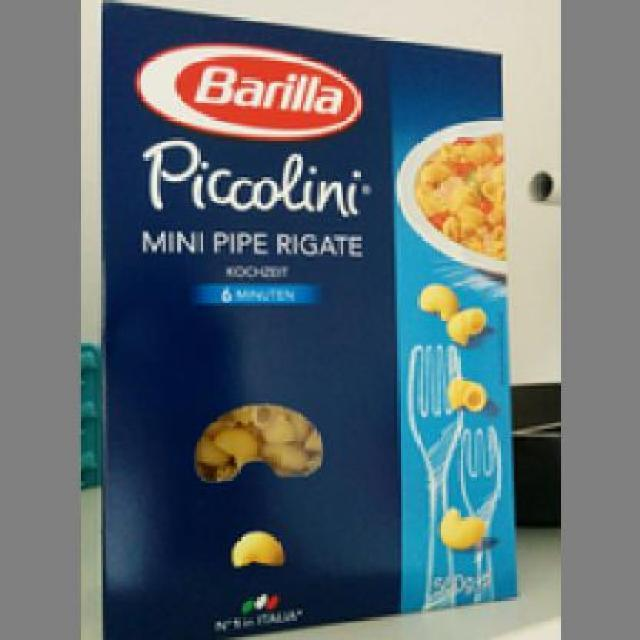Pasta: (96, 0, 521, 635)
